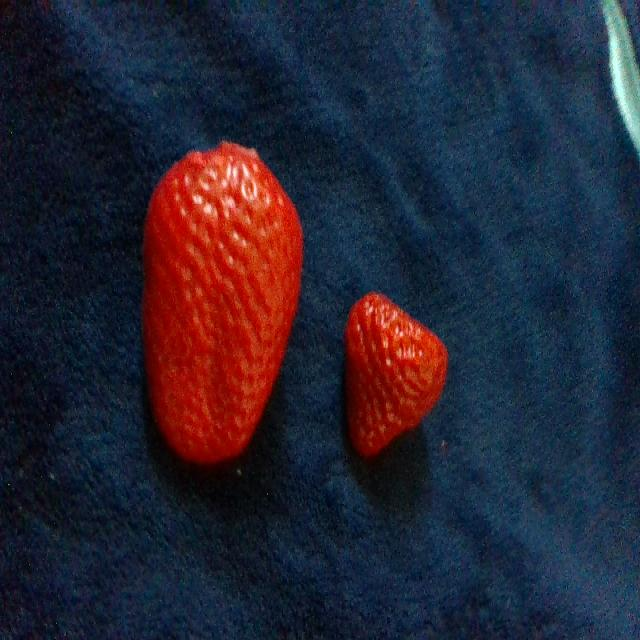chica_roja: (346, 293, 446, 455)
grande_roja: (144, 143, 302, 461)
